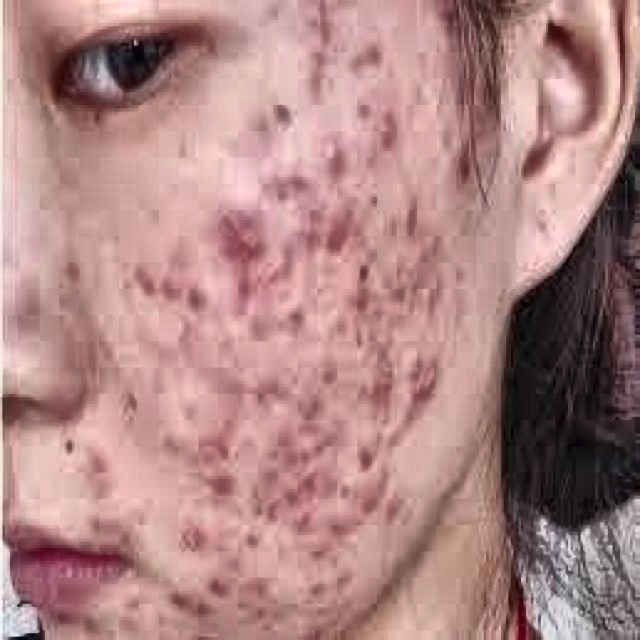nodule: (397, 348, 449, 417), (172, 565, 208, 630), (208, 197, 253, 243), (268, 243, 310, 289), (357, 361, 392, 414), (409, 230, 449, 276), (278, 299, 312, 351), (255, 456, 292, 502), (196, 427, 236, 469), (149, 253, 183, 302), (282, 368, 312, 423), (382, 266, 417, 312), (82, 443, 114, 492), (273, 417, 307, 463), (240, 574, 282, 610), (313, 131, 347, 174), (340, 279, 377, 318), (355, 322, 389, 364), (377, 115, 404, 167), (124, 256, 156, 299), (328, 466, 360, 509), (290, 506, 328, 542), (342, 252, 382, 286), (293, 56, 330, 92), (201, 466, 238, 502), (355, 33, 389, 72), (176, 515, 208, 555), (348, 85, 380, 125), (156, 423, 188, 463), (397, 197, 429, 236), (243, 496, 275, 535), (243, 364, 270, 410), (179, 276, 213, 312), (313, 354, 347, 390), (149, 598, 183, 634), (354, 141, 384, 181), (233, 276, 273, 305), (320, 210, 350, 246), (273, 158, 303, 194), (360, 479, 390, 515), (240, 302, 272, 335), (310, 424, 340, 459), (348, 440, 384, 469), (300, 220, 328, 256), (414, 269, 439, 309), (322, 512, 360, 538), (360, 184, 390, 216), (328, 561, 360, 591), (298, 194, 328, 226), (250, 607, 280, 637), (444, 256, 471, 289), (325, 401, 352, 434), (303, 532, 337, 558), (171, 394, 201, 423), (308, 13, 340, 40), (228, 233, 256, 263), (305, 571, 330, 604), (114, 610, 144, 637), (298, 460, 325, 489), (121, 587, 149, 614), (208, 568, 234, 594), (79, 607, 97, 637), (387, 506, 412, 525), (99, 614, 114, 636)
